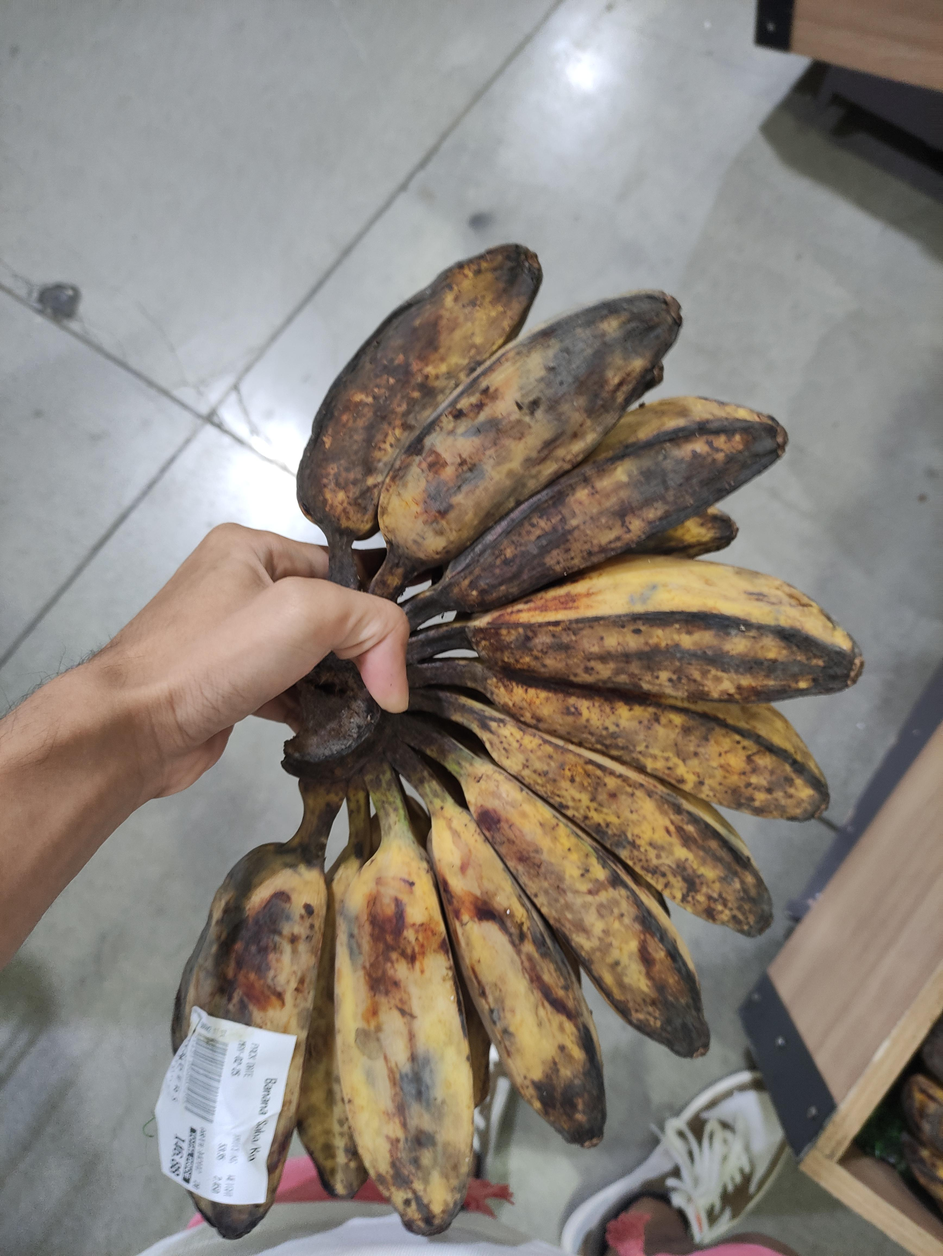ripe: (173, 244, 865, 1237)
